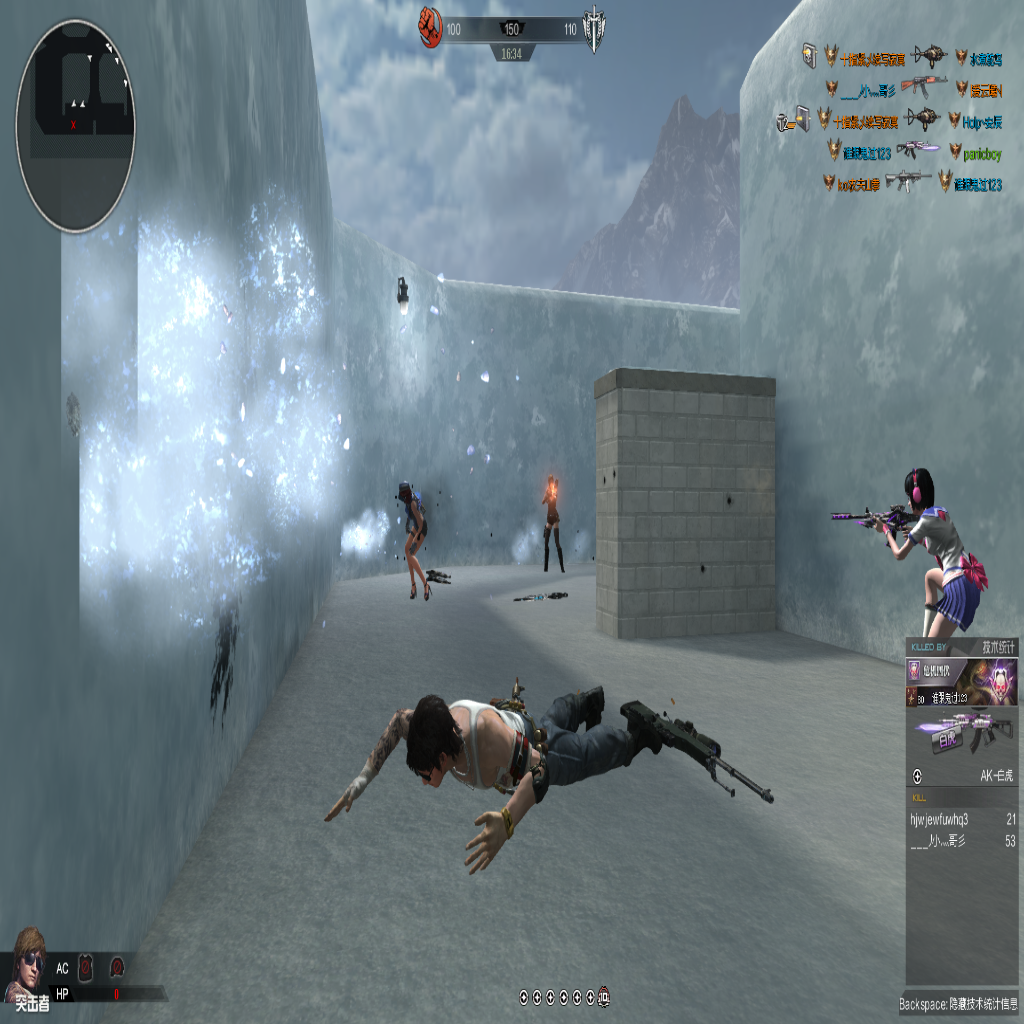ct: (398, 484, 430, 602), (541, 470, 565, 577)
